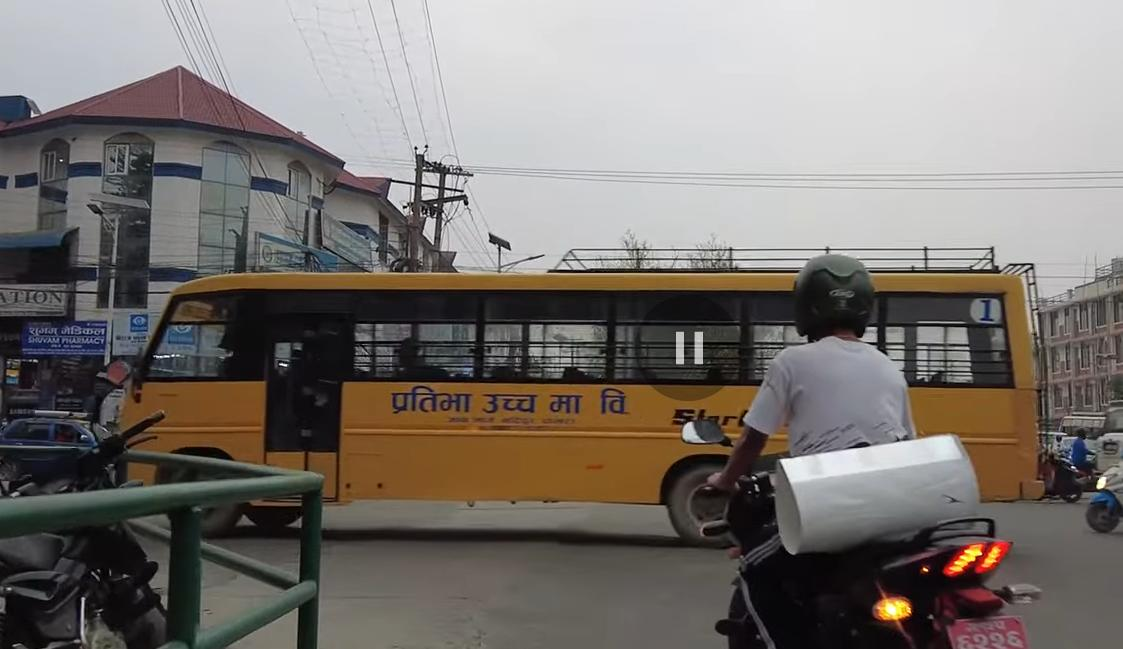school_bus: (111, 235, 1048, 563)
